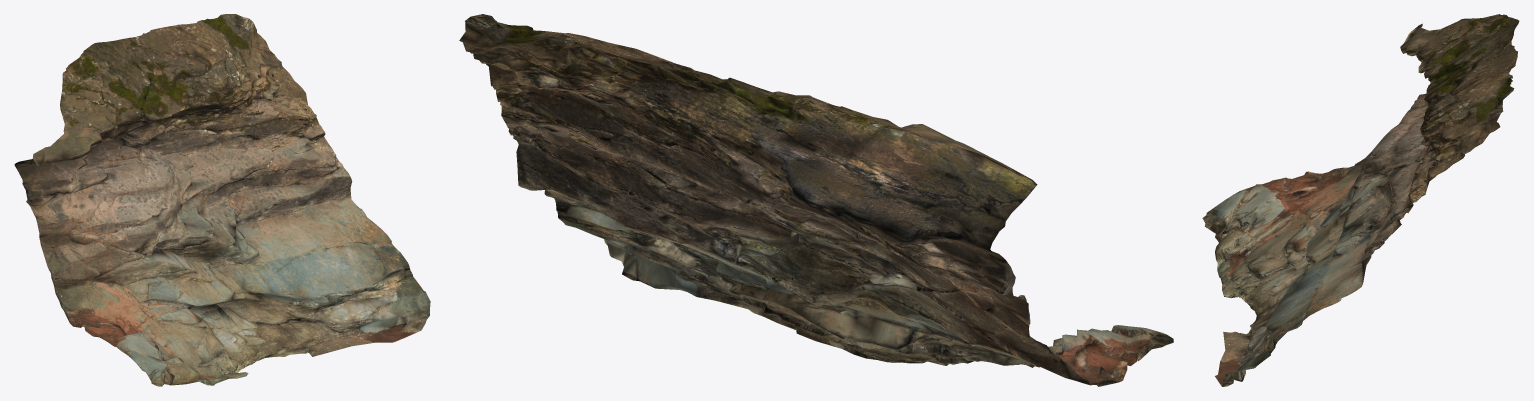
The model's file is rock_face.glb.
The picture shows the model from 3 angles, left to right: view 1: azimuth 30°, elevation 25°; view 2: azimuth 150°, elevation 25°; view 3: azimuth 270°, elevation 25°; orthographic projection. The views are drawn at different scales.
Parts seen in each view (by area): view 1: rock_face_01; view 2: rock_face_01; view 3: rock_face_01.
Part boxes in pixels (left/top/right/bottom): rock_face_01: left=14, top=14, right=430, bottom=386; rock_face_01: left=459, top=14, right=1173, bottom=386; rock_face_01: left=1202, top=14, right=1519, bottom=386.
Bounding box in the file's own units: 4.95 × 3.56 × 3.83.
1 material, 1 textured.
